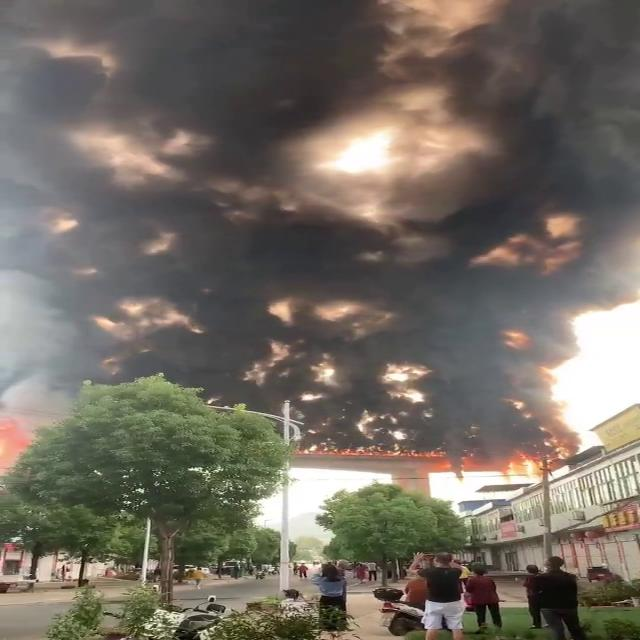Smoke: (18, 0, 640, 436)
